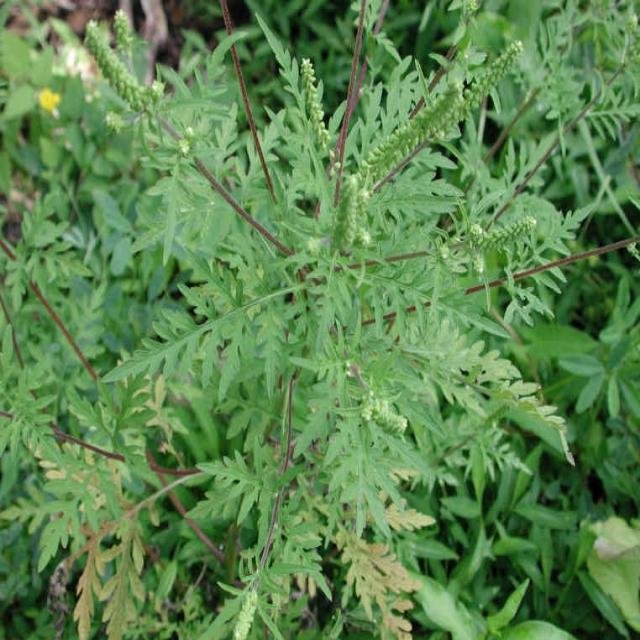ambrosia: (323, 16, 513, 202), (49, 15, 177, 144), (332, 333, 452, 468), (394, 177, 530, 272), (186, 532, 290, 640), (316, 164, 394, 292)
